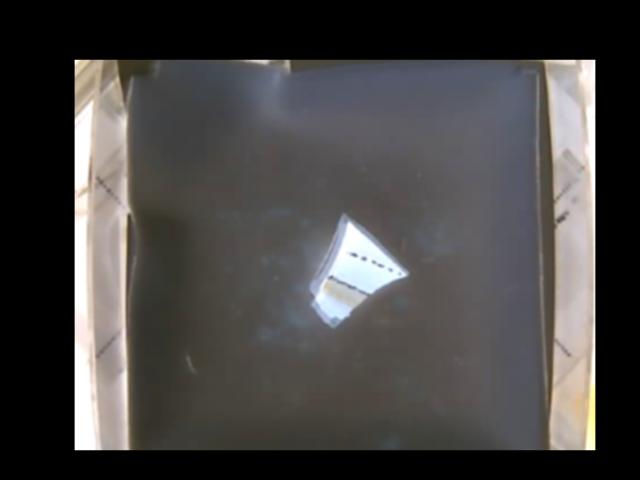China: (309, 215, 406, 327)
